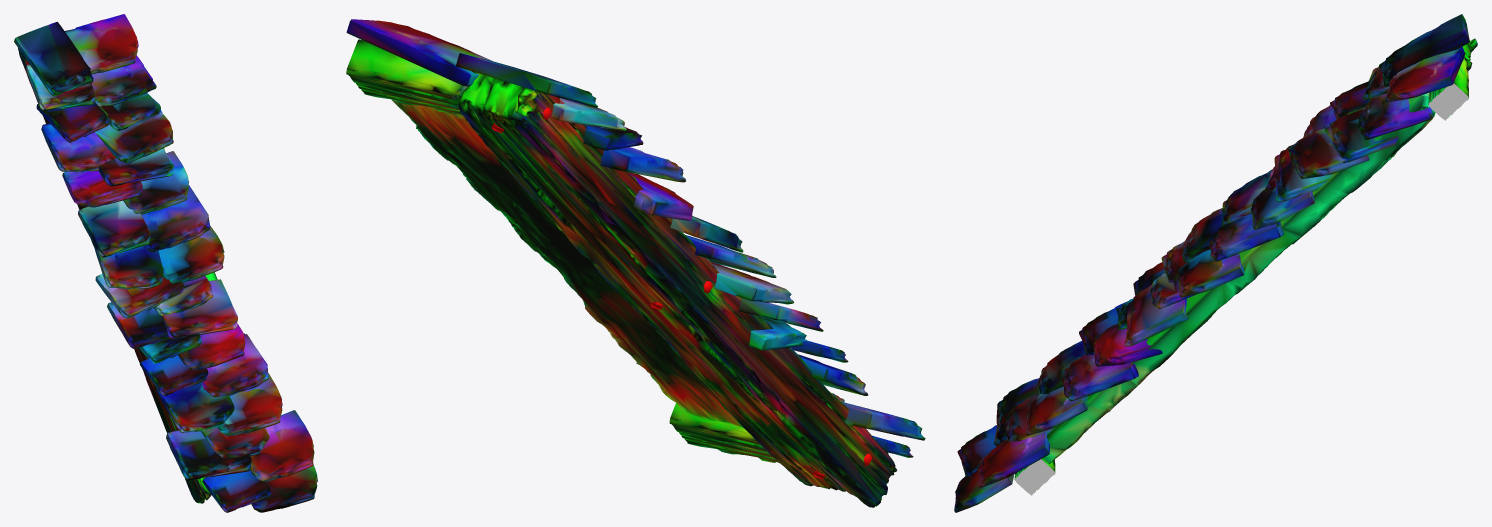
File: SM_Stone_Roof_End_L.fbx
3 renders of one model, left to right at view 1: azimuth 30°, elevation 25°; view 2: azimuth 150°, elevation 25°; view 3: azimuth 270°, elevation 25°, orthographic. The views are drawn at different scales.
Visible parts, largest first — view 1: SM_Stone_Roof_End_L_LOD0; view 2: SM_Stone_Roof_End_L_LOD0; view 3: SM_Stone_Roof_End_L_LOD0.
Part boxes in pixels (box(x1,y1,x2,y2)): SM_Stone_Roof_End_L_LOD0: box(14, 14, 317, 512); SM_Stone_Roof_End_L_LOD0: box(346, 19, 925, 507); SM_Stone_Roof_End_L_LOD0: box(954, 14, 1477, 512).
Bounding box in the file's own units: 134 × 360 × 339.
